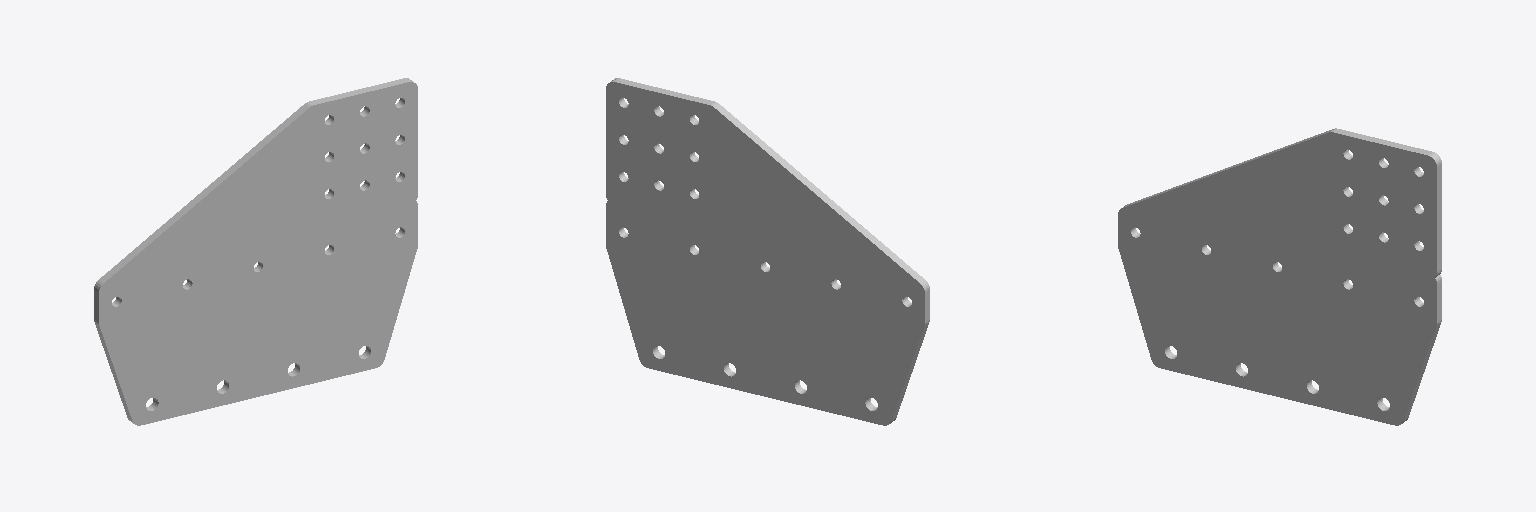
File: GantryPlate.obj
3 renders of one model, left to right at view 1: azimuth 30°, elevation 25°; view 2: azimuth 150°, elevation 25°; view 3: azimuth 330°, elevation 25°, orthographic.
Parts seen in each view (by area): view 1: Root|Gantry_Plate_(Default)|Default|matte_steel; view 2: Root|Gantry_Plate_(Default)|Default|matte_steel; view 3: Root|Gantry_Plate_(Default)|Default|matte_steel.
Part boxes in pixels (x1,y1,x2,y2): Root|Gantry_Plate_(Default)|Default|matte_steel: (94, 78, 417, 425); Root|Gantry_Plate_(Default)|Default|matte_steel: (606, 78, 929, 425); Root|Gantry_Plate_(Default)|Default|matte_steel: (1118, 128, 1441, 425).
Size of the model in its own units: 0.18 by 0.15 by 0.005.